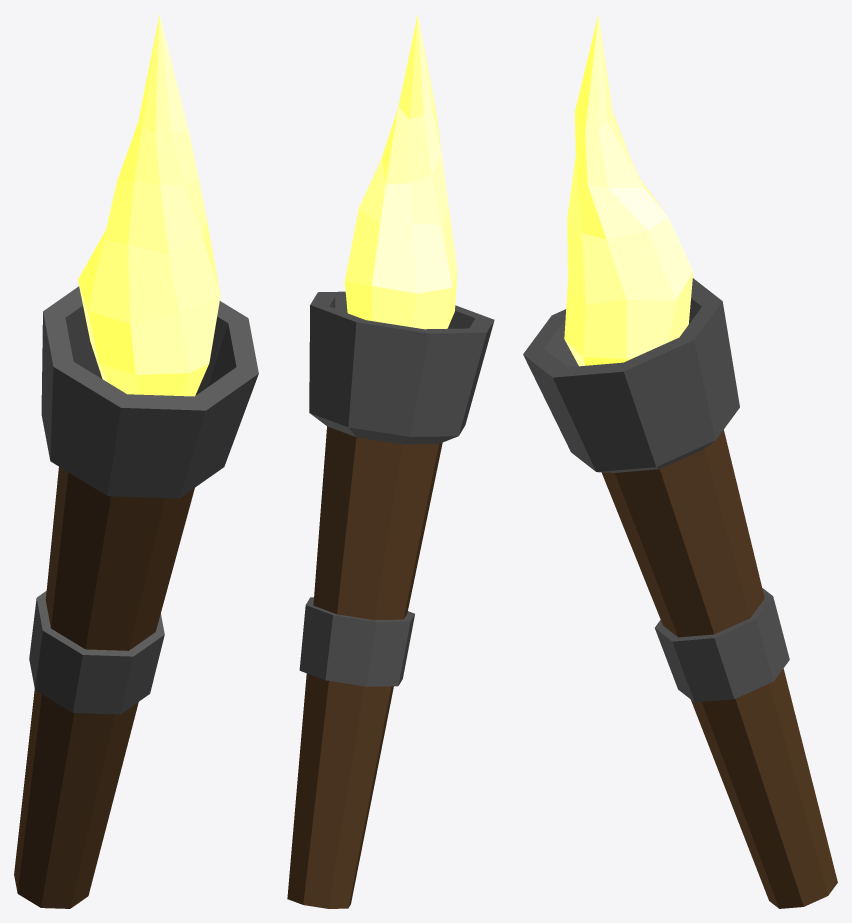
File: wall_torch.fbx
3 views of the same model, side by side, from view 1: azimuth 30°, elevation 25°; view 2: azimuth 150°, elevation 25°; view 3: azimuth 270°, elevation 25° (orthographic). The views are drawn at different scales.
Visible parts, largest first — view 1: Cylinder.002; view 2: Cylinder.002; view 3: Cylinder.002.
Part boxes in pixels (box(x1,y1,x2,y2)): Cylinder.002: box(14, 14, 258, 908); Cylinder.002: box(287, 14, 494, 908); Cylinder.002: box(523, 14, 837, 908).
Bounding box in the file's own units: 0.1782 × 0.8371 × 0.2699.
